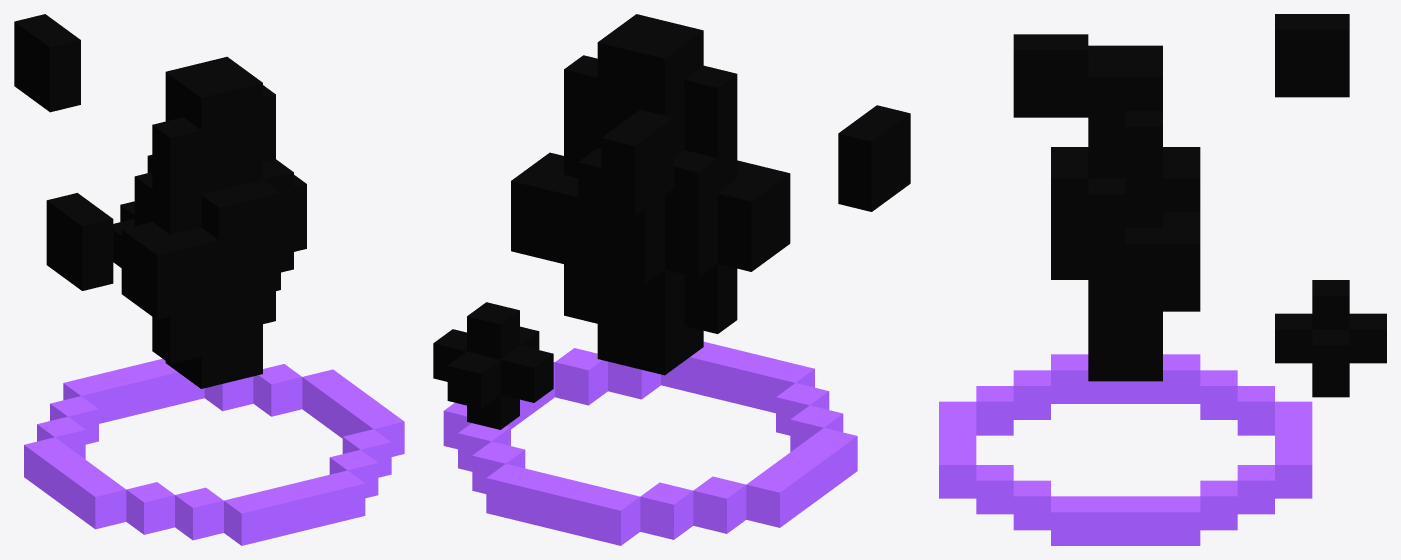
The model's file is item_OBLIVION_SHARD.glb.
The picture shows the model from 3 angles, left to right: view 1: azimuth 30°, elevation 25°; view 2: azimuth 150°, elevation 25°; view 3: azimuth 270°, elevation 25°; orthographic projection. The views are drawn at different scales.
Parts seen in each view (by area): view 1: item_OBLIVION_SHARD; view 2: item_OBLIVION_SHARD; view 3: item_OBLIVION_SHARD.
Part boxes in pixels (box(x1,y1,x2,y2)): item_OBLIVION_SHARD: box(14, 14, 404, 545); item_OBLIVION_SHARD: box(433, 14, 910, 545); item_OBLIVION_SHARD: box(939, 14, 1386, 545).
Bounding box in the file's own units: 0.25 × 0.2727 × 0.2727.
1 material, 1 textured.
